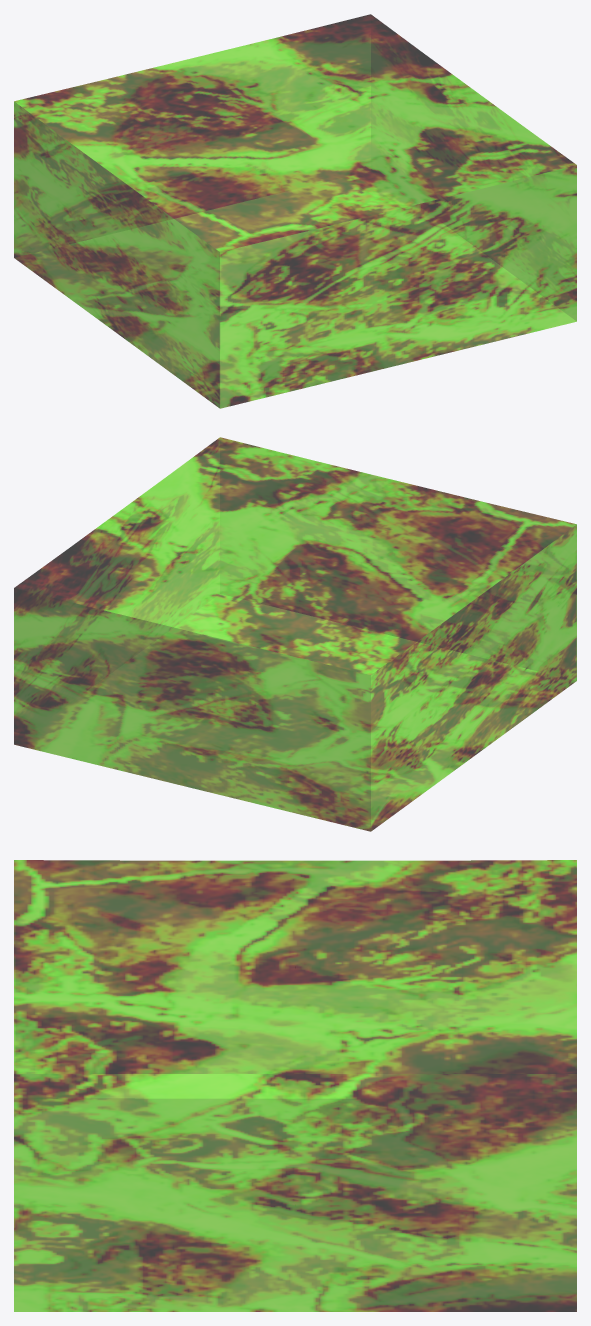
The model's file is newGasCloudTest.fbx.
3 views of the same model, one above another, from view 1: azimuth 30°, elevation 25°; view 2: azimuth 150°, elevation 25°; view 3: azimuth 270°, elevation 25° (orthographic). The views are drawn at different scales.
Parts seen in each view (by area): view 1: Cube; view 2: Cube; view 3: Cube.
Boxes of the visible parts, bbox=[...] form: Cube: bbox=[14, 14, 576, 408]; Cube: bbox=[14, 437, 576, 831]; Cube: bbox=[14, 860, 576, 1311].
Bounding box in the file's own units: 200 × 83.88 × 200.
